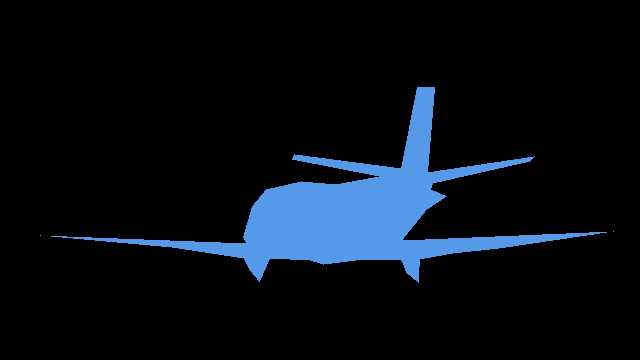Airplane: (40, 87, 613, 283)
